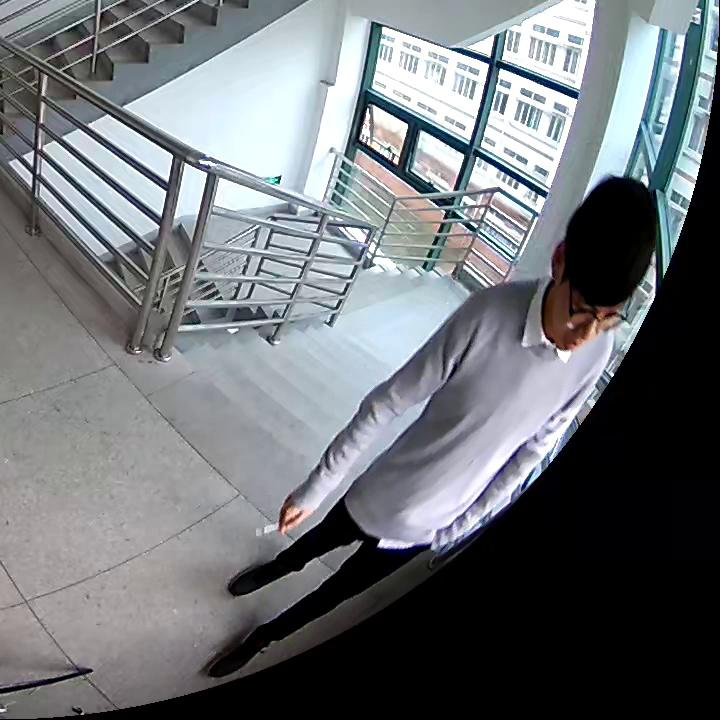handsmoke: (254, 493, 311, 535)
mouthwithoutsmoke: (545, 180, 655, 348)
